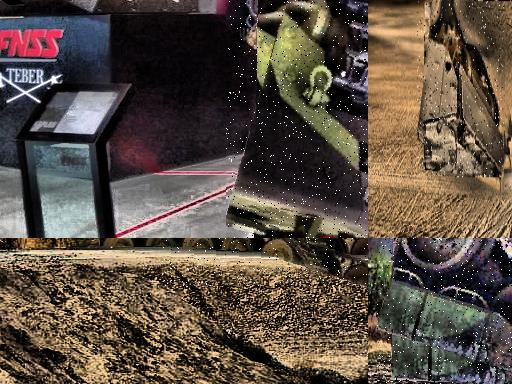tanks: (228, 1, 369, 239), (378, 239, 512, 371), (418, 2, 505, 178), (219, 239, 369, 285)
